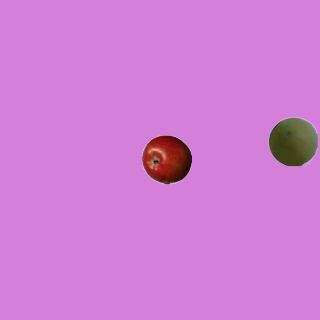Apple Braeburn: (141, 134, 191, 184)
Grape White 4: (267, 116, 317, 166)
